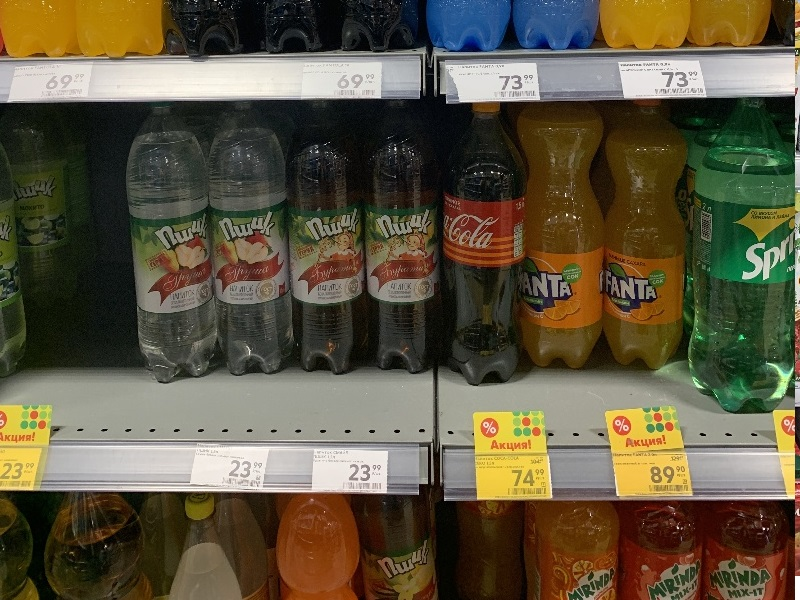lemonade: (695, 96, 796, 433), (117, 100, 227, 392), (195, 98, 304, 385), (597, 95, 699, 385), (353, 96, 453, 384), (516, 98, 615, 387), (278, 98, 377, 384), (436, 100, 529, 395)
